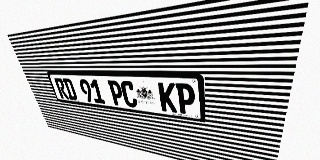1: (88, 79, 105, 104)
9: (78, 79, 95, 103)
C: (120, 81, 138, 108)
D: (62, 78, 78, 100)
K: (158, 82, 177, 113)
P: (175, 83, 195, 115), (107, 80, 125, 106)
R: (54, 78, 69, 99)
